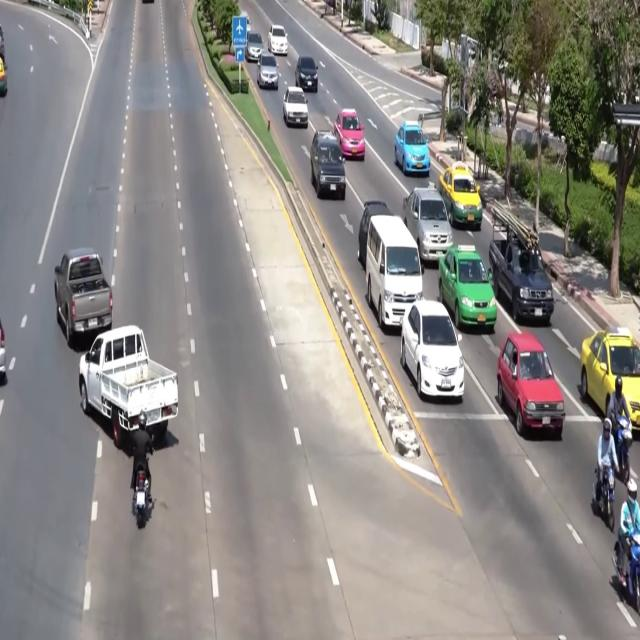car: (497, 332, 564, 438), (401, 300, 464, 400), (580, 328, 639, 430), (439, 245, 497, 329), (403, 184, 452, 262), (440, 162, 482, 230), (310, 131, 346, 199), (358, 200, 393, 268), (395, 121, 430, 176), (334, 109, 365, 159), (283, 88, 308, 127), (295, 56, 318, 92), (257, 51, 278, 89), (268, 25, 288, 56), (246, 32, 263, 62), (0, 320, 6, 384), (0, 59, 7, 96), (240, 10, 251, 33), (0, 24, 5, 63)
scooty: (612, 531, 639, 612), (593, 467, 615, 532), (615, 416, 632, 483), (134, 469, 148, 528)
truck: (79, 326, 177, 448), (489, 203, 554, 323), (55, 248, 112, 346)
